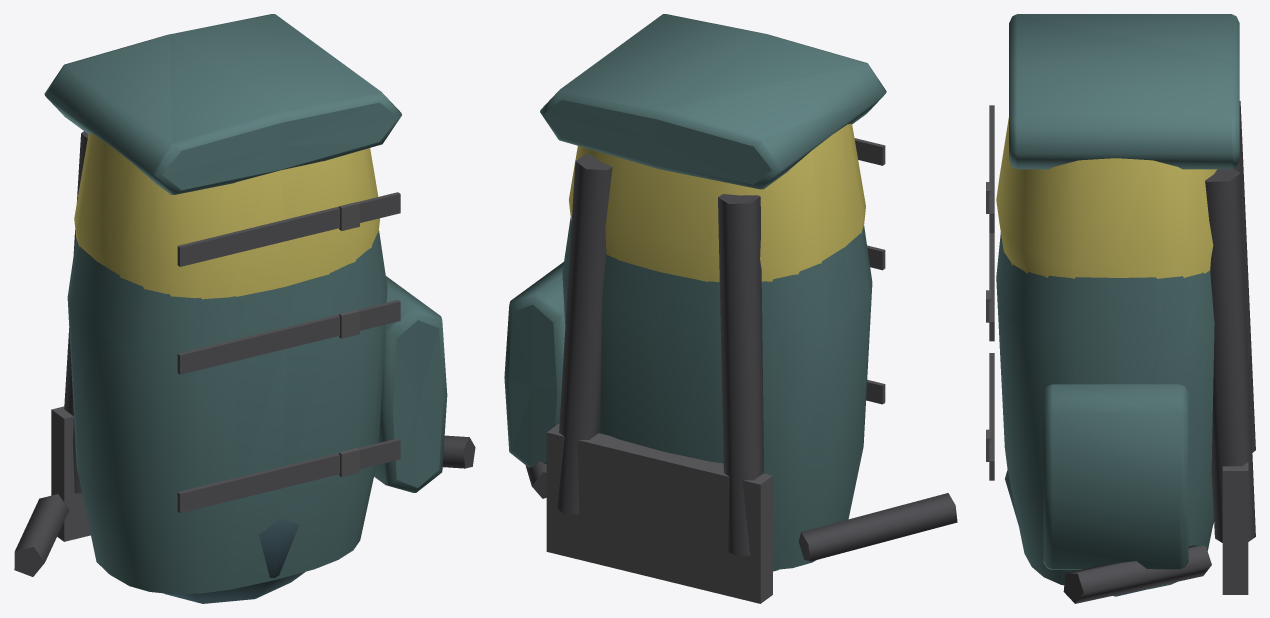
Rendered from wren_backpack_a.glb.
3 renders of one model, left to right at view 1: azimuth 30°, elevation 25°; view 2: azimuth 150°, elevation 25°; view 3: azimuth 270°, elevation 25°, orthographic. The views are drawn at different scales.
Visible parts, largest first — view 1: body; view 2: body; view 3: body.
Part boxes in pixels (x1,y1,x2,y2): body: (14, 14, 475, 603); body: (504, 14, 957, 603); body: (986, 14, 1255, 603).
Bounding box in the file's own units: 0.629 × 0.67 × 0.316.
